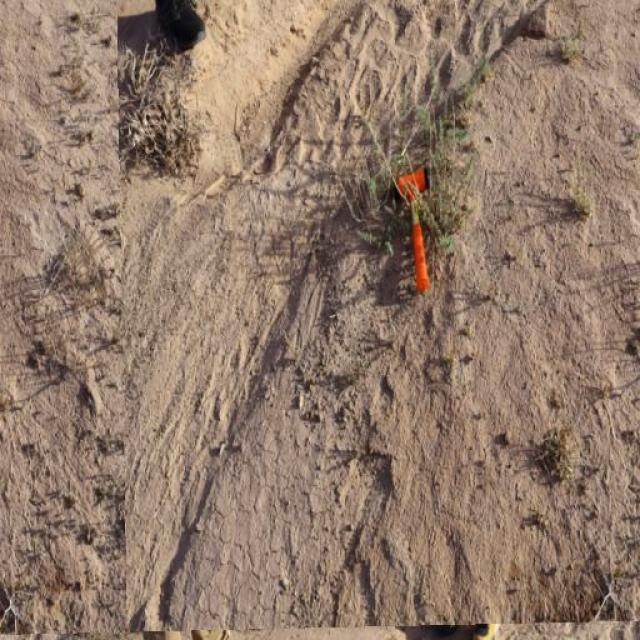mallet: (396, 164, 434, 292)
